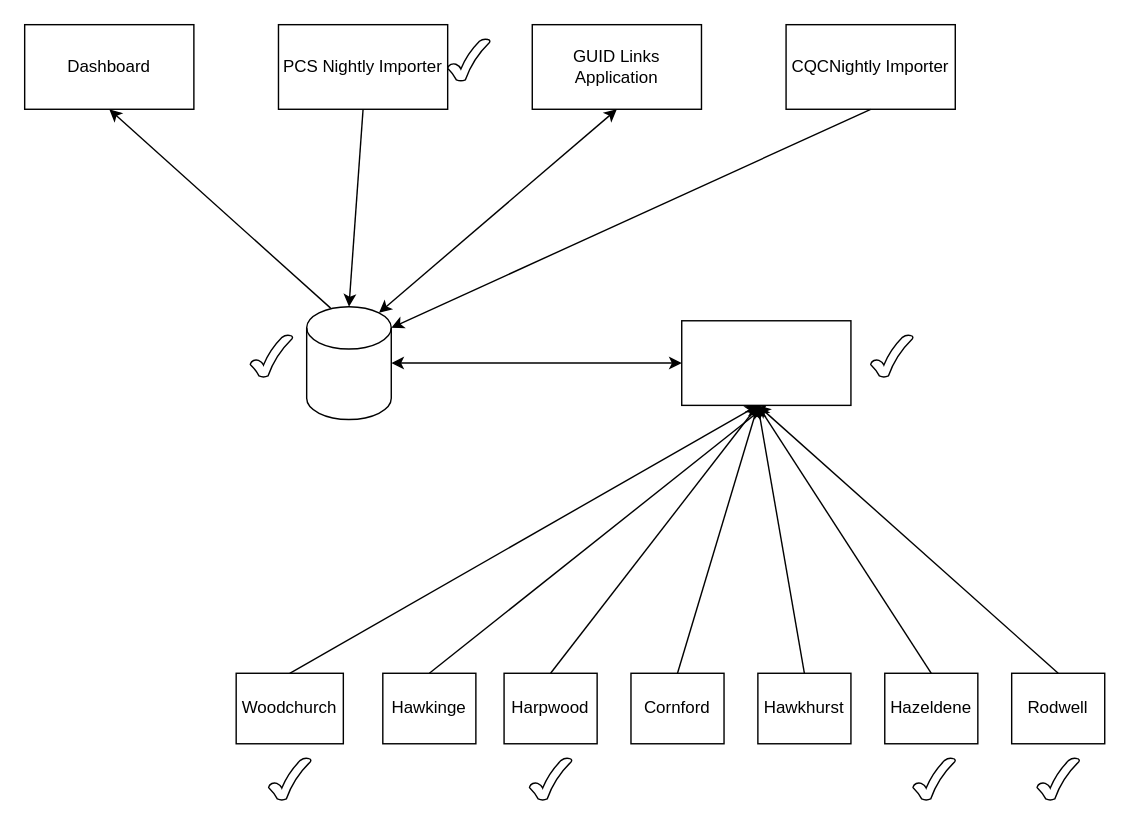
Image size: 1129x825. Some labels were removed from this diagram. The box of each missing label's shape, as (x1, y1, x2, y2) in pixels:
Azure Function/Firebase: (680, 319, 851, 405)
Database: (305, 305, 391, 419)
